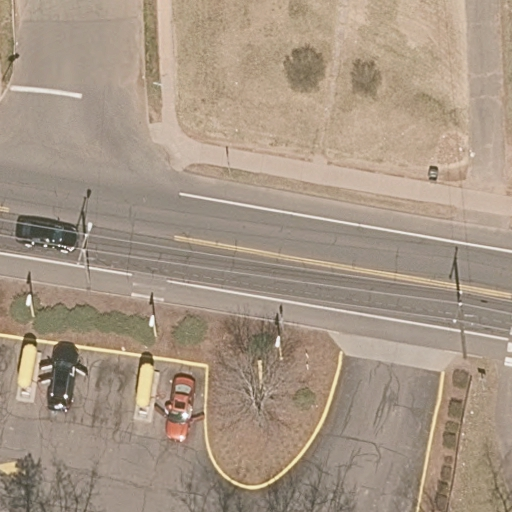DT: (76, 221, 94, 282), (452, 289, 473, 327)
